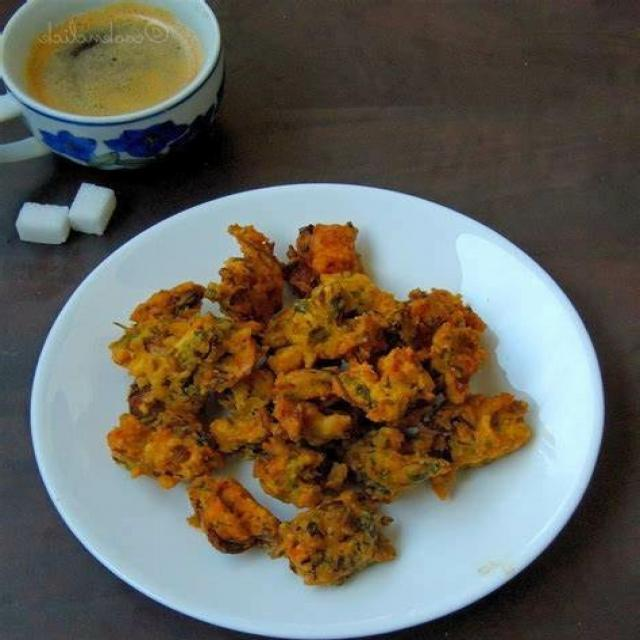Onion Pakora: (100, 215, 537, 591)
